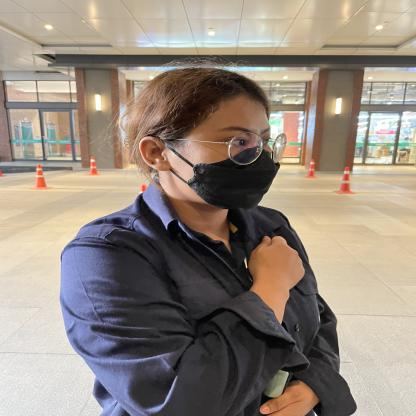Sadness: (179, 222, 366, 363)
